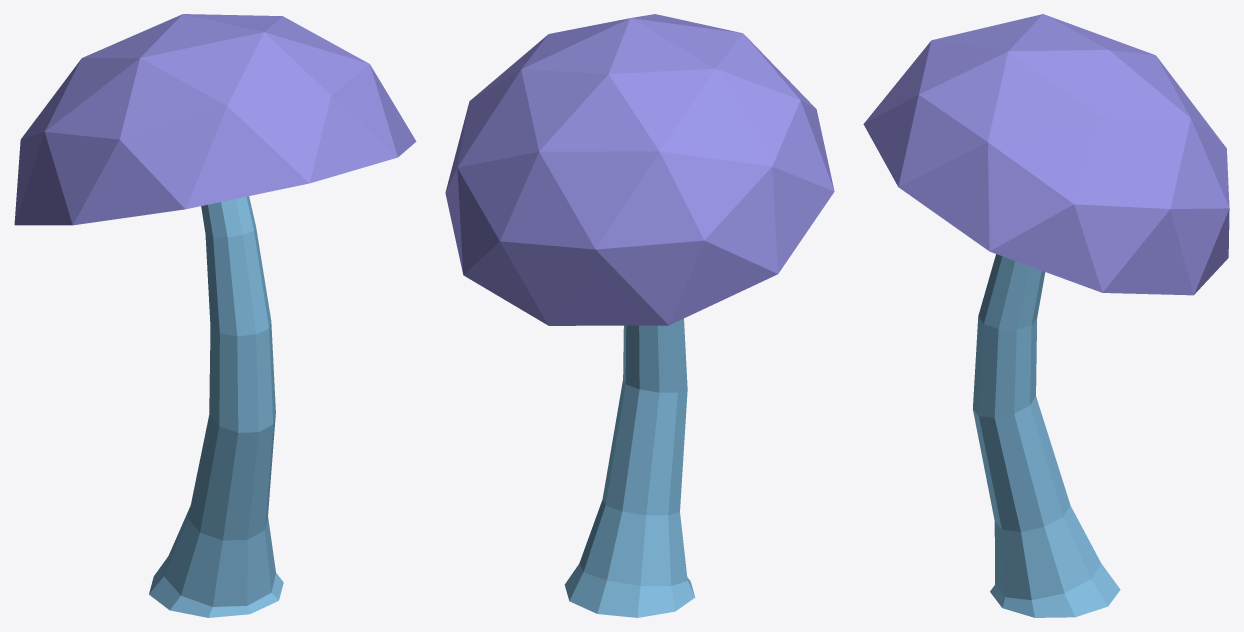
File: True_Mushroom.fbx
The picture shows the model from 3 angles, left to right: view 1: azimuth 30°, elevation 25°; view 2: azimuth 150°, elevation 25°; view 3: azimuth 270°, elevation 25°; orthographic projection. The views are drawn at different scales.
Visible parts, largest first — view 1: Icosphere.001; view 2: Icosphere.001; view 3: Icosphere.001.
Boxes of the visible parts, left/top/right/bottom form: Icosphere.001: left=14, top=14, right=416, bottom=617; Icosphere.001: left=445, top=14, right=834, bottom=617; Icosphere.001: left=863, top=14, right=1229, bottom=617.
Bounding box in the file's own units: 12250 × 19389 × 11664.
